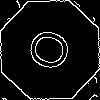O: (25, 25, 82, 78)
